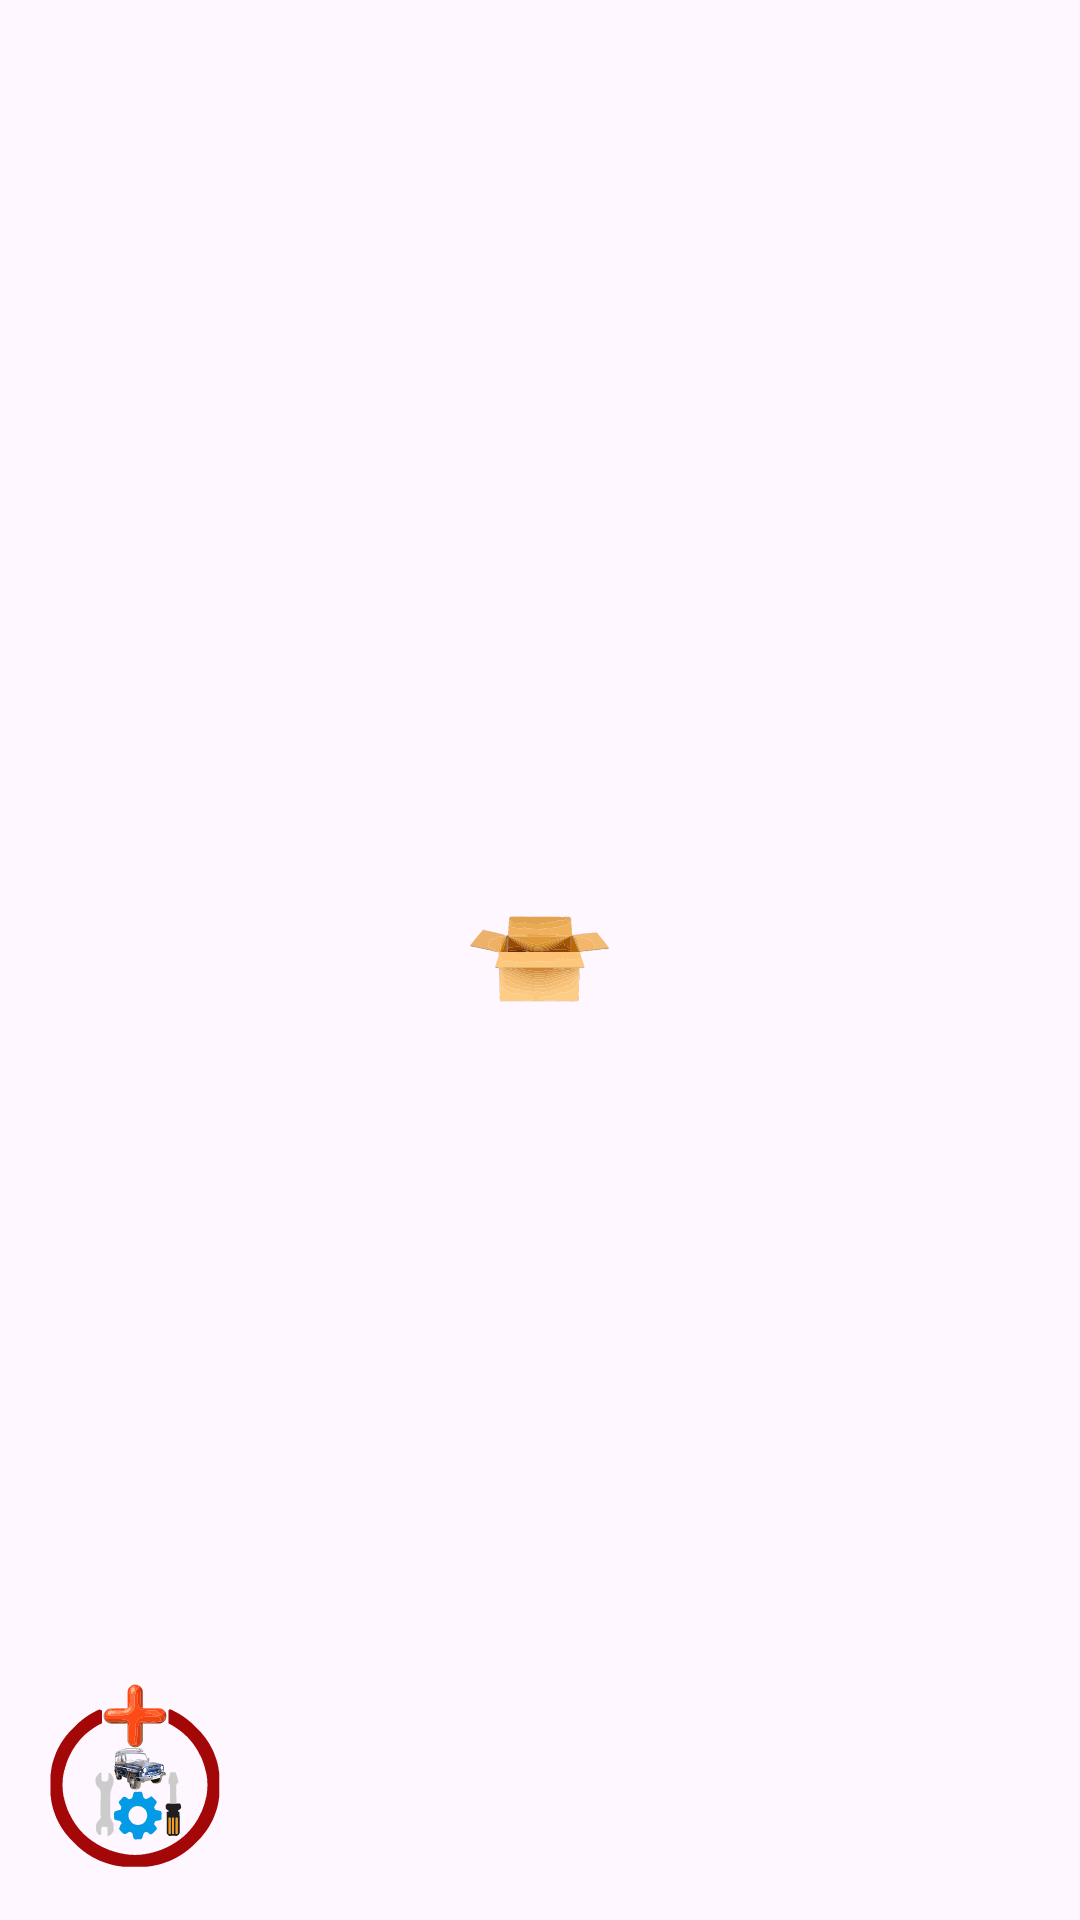

Icons on this 1080px×1920px Android screen, each with the point to tap as (x=x, y=y):
add repair: (x=135, y=1775)
box empty: (x=539, y=959)
